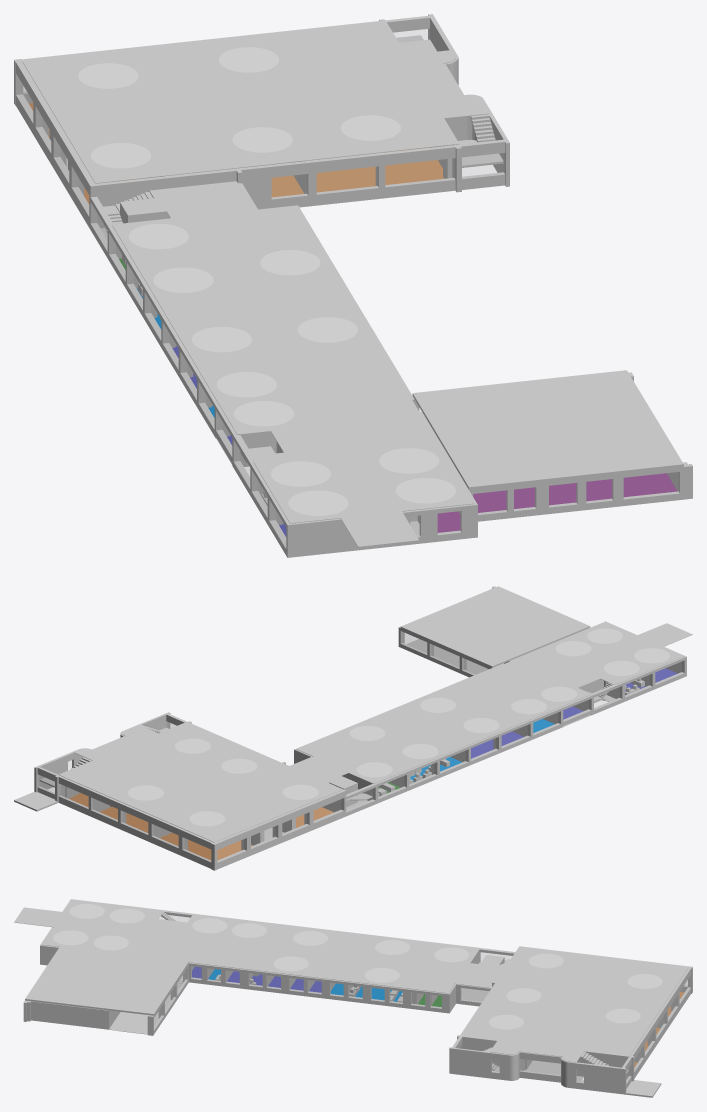
The picture shows the model from 3 angles, top to bottom: view 1: azimuth 30°, elevation 25°; view 2: azimuth 150°, elevation 25°; view 3: azimuth 270°, elevation 25°; orthographic projection. The views are drawn at different scales.
Parts seen in each view (by area): view 1: 3.206, 3.205, 2.519, 62920.0, 62020.0, 2.357, 2.308, 2.501, 2.502, 204.001, 205.001, 226.001 (+21 smaller); view 2: 3.206, 3.205, 2.519, 2.008, 62050.0, 2.347, 2.520, 62130.0, 205.001, 204.001, -.001, 215б.001 (+12 smaller); view 3: 3.206, 3.205, 2.519, 2.008, 2.224, 2.347, 2.325, 2.351, 2.514, 2.520, 217б.001, 207.001 (+20 smaller).
Part boxes in pixels (box(x1,y1,x2,y2)): 3.206: box(112, 181, 474, 547); 3.205: box(22, 22, 488, 183); 2.519: box(412, 370, 683, 489); 62920.0: box(473, 473, 677, 512); 62020.0: box(316, 147, 444, 192); 2.357: box(286, 518, 375, 557); 2.308: box(89, 174, 180, 229); 2.501: box(385, 158, 454, 186); 2.502: box(317, 166, 378, 193); 204.001: box(232, 127, 292, 152); 205.001: box(78, 63, 138, 88); 226.001: box(379, 448, 439, 473); 3.206: box(290, 622, 692, 788); 3.205: box(58, 722, 340, 842); 2.519: box(400, 586, 590, 667); 2.008: box(264, 639, 615, 840); 62050.0: box(159, 833, 252, 860); 2.347: box(34, 754, 67, 792); 2.520: box(14, 791, 58, 811); 62130.0: box(471, 731, 523, 758); 205.001: box(189, 811, 225, 826); 204.001: box(221, 758, 257, 773); -.001: box(356, 762, 392, 777); 215б.001: box(541, 686, 577, 701); 3.206: box(14, 899, 504, 993); 3.205: box(462, 947, 687, 1062); 2.519: box(25, 946, 188, 1015); 2.008: box(109, 975, 583, 1081); 2.224: box(29, 1001, 103, 1028); 2.347: box(584, 1063, 626, 1094); 2.325: box(449, 1047, 491, 1078); 2.351: box(499, 1052, 520, 1080); 2.514: box(520, 1059, 560, 1075); 2.520: box(623, 1080, 661, 1097); 217б.001: box(109, 908, 144, 923); 207.001: box(528, 953, 563, 968).
Size of the model in its own units: 6083 by 408 by 9708.
